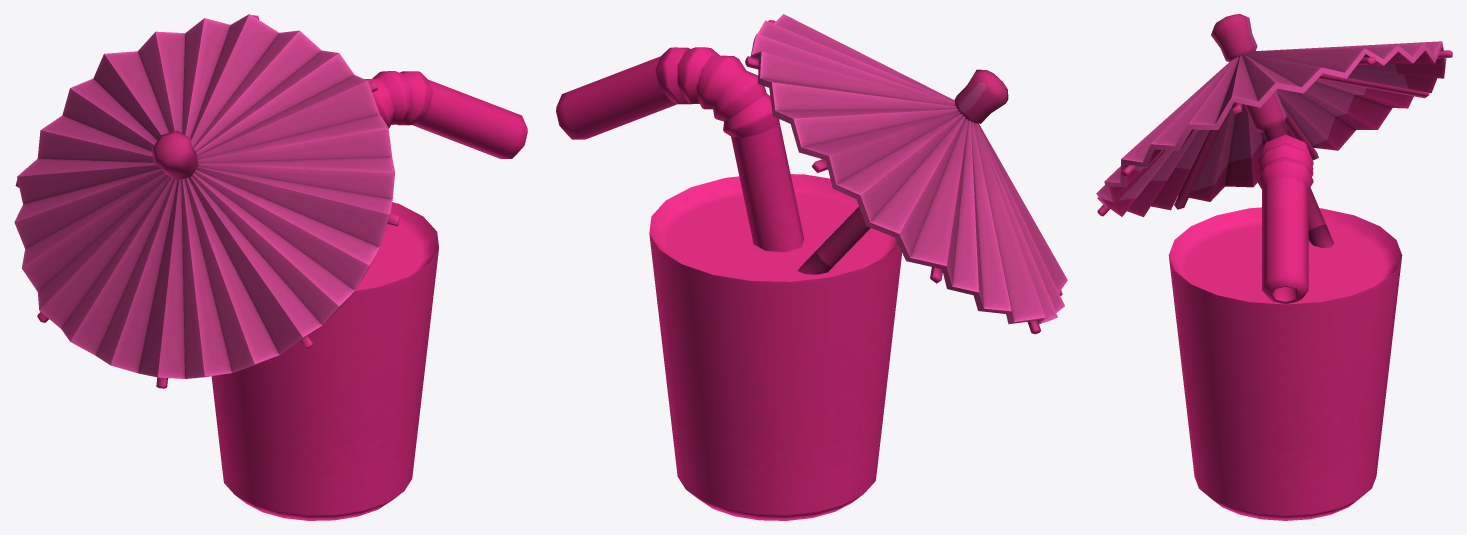
File: Web_Smoothie_Mix_Pink.obj
3 views of the same model, side by side, from view 1: azimuth 30°, elevation 25°; view 2: azimuth 150°, elevation 25°; view 3: azimuth 270°, elevation 25° (orthographic). The views are drawn at different scales.
Visible parts, largest first — view 1: m_recipe_megaSmoothie_01(Clone)_0; view 2: m_recipe_megaSmoothie_01(Clone)_0; view 3: m_recipe_megaSmoothie_01(Clone)_0.
Part boxes in pixels (x1,y1,x2,y2): m_recipe_megaSmoothie_01(Clone)_0: [14, 14, 527, 520]; m_recipe_megaSmoothie_01(Clone)_0: [556, 14, 1067, 520]; m_recipe_megaSmoothie_01(Clone)_0: [1096, 14, 1452, 520].
Size of the model in its own units: 1.11 by 1.01 by 0.7635.
Materials: 1 (1 with a texture image).
